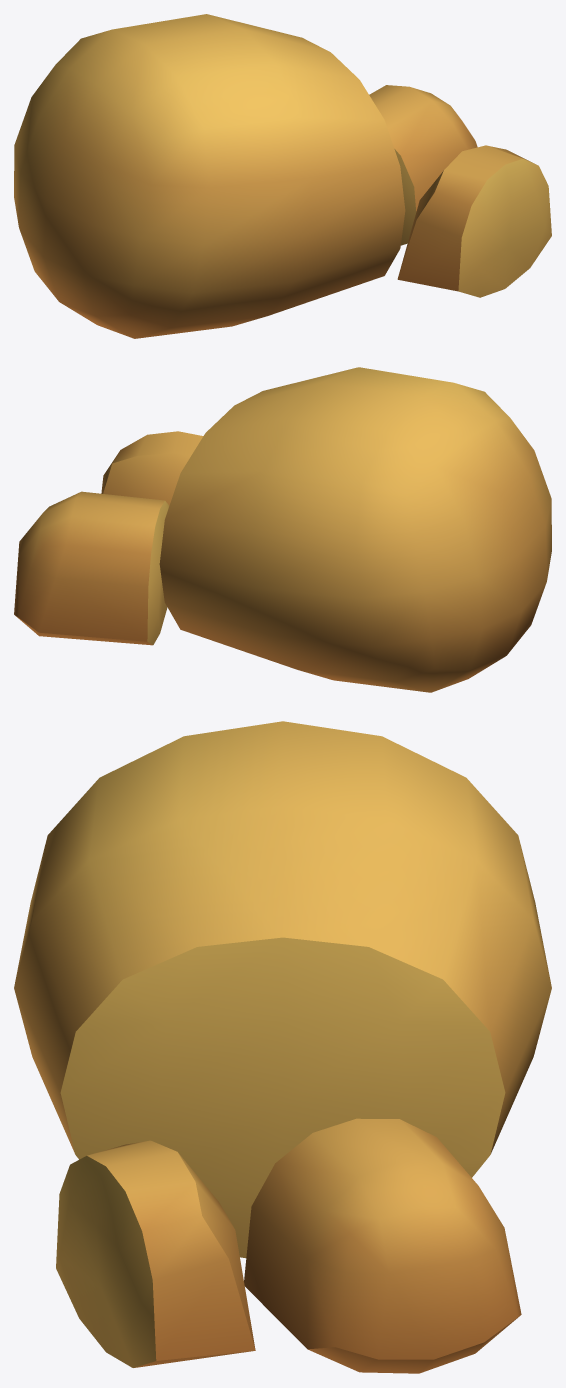
The model's file is food_ingredient_potato_chopped.obj.
3 renders of one model, top to bottom at view 1: azimuth 30°, elevation 25°; view 2: azimuth 150°, elevation 25°; view 3: azimuth 270°, elevation 25°, orthographic. The views are drawn at different scales.
Visible parts, largest first — view 1: food_ingredient_potato_chopped_Cube.18438; view 2: food_ingredient_potato_chopped_Cube.18438; view 3: food_ingredient_potato_chopped_Cube.18438.
Part boxes in pixels (x1,y1,x2,y2): food_ingredient_potato_chopped_Cube.18438: (14,14,551,338); food_ingredient_potato_chopped_Cube.18438: (14,367,551,692); food_ingredient_potato_chopped_Cube.18438: (14,721,551,1373).
Bounding box in the file's own units: 1.05 × 0.6 × 0.7.
1 material, 1 textured.
